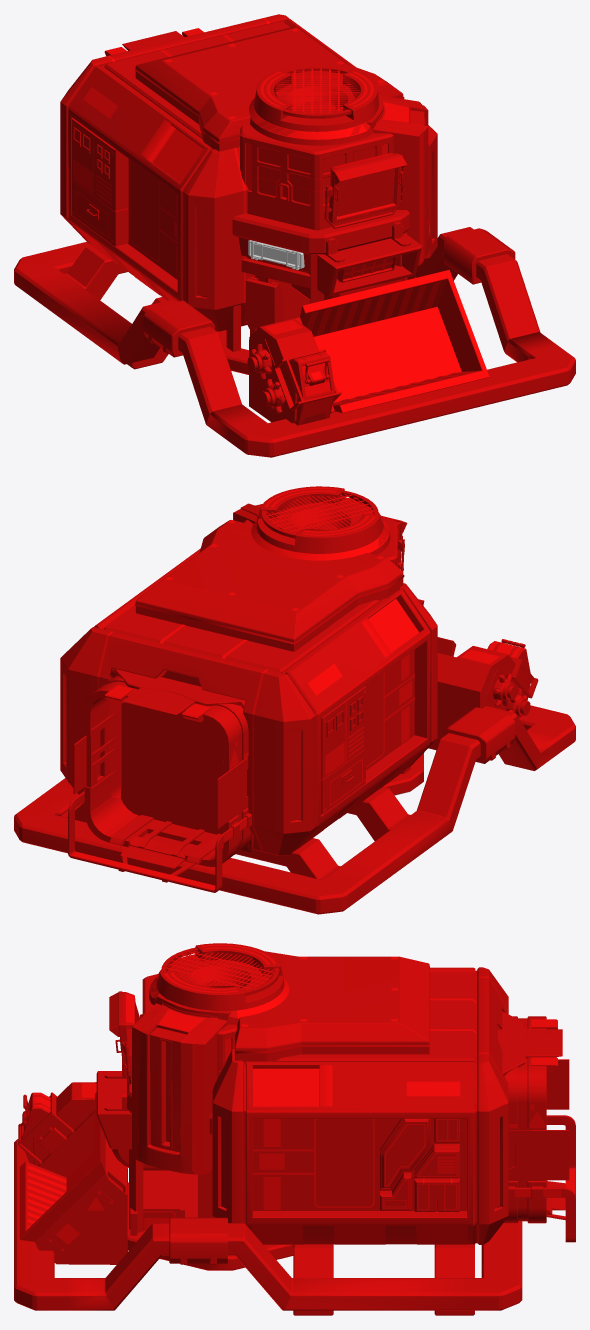
The model's file is Hopper_0.4.ex.fbx.
3 views of the same model, one above another, from view 1: azimuth 30°, elevation 25°; view 2: azimuth 150°, elevation 25°; view 3: azimuth 270°, elevation 25° (orthographic).
Visible parts, largest first — view 1: MinerMk1_static; view 2: MinerMk1_static; view 3: MinerMk1_static.
Boxes of the visible parts, x1=… form: MinerMk1_static: x1=14, y1=14, x2=575, y2=457; MinerMk1_static: x1=14, y1=486, x2=575, y2=914; MinerMk1_static: x1=14, y1=943, x2=575, y2=1315.
Size of the model in its own units: 495 by 372 by 693.
